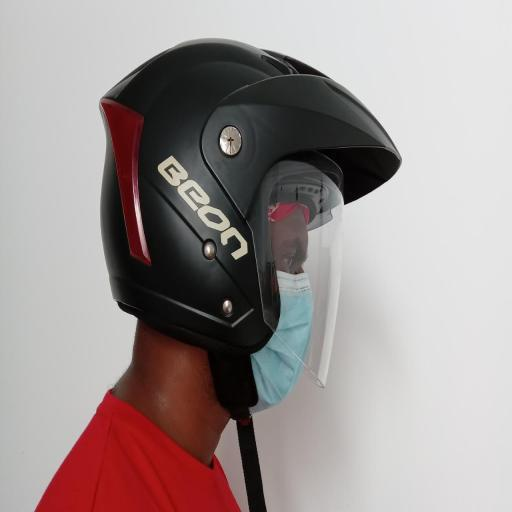with helmet: (97, 36, 401, 390)
